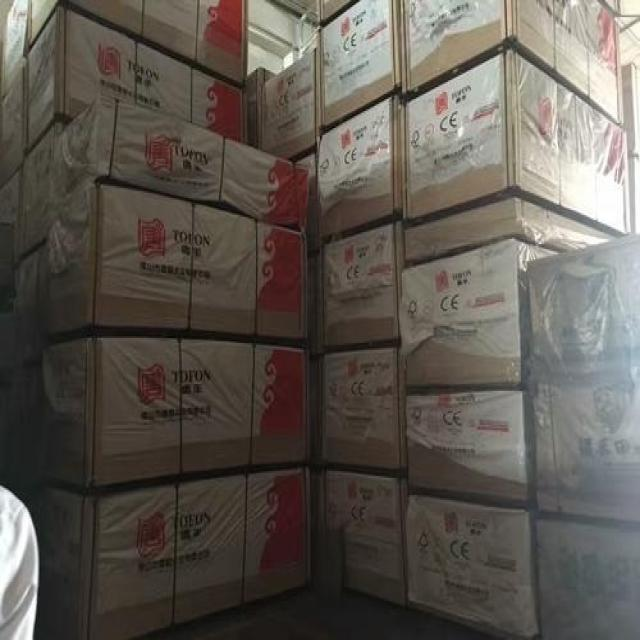box: (35, 464, 308, 640), (47, 183, 307, 346), (404, 49, 630, 236), (44, 338, 308, 490), (54, 94, 307, 230), (24, 2, 248, 154), (526, 232, 640, 524), (398, 0, 625, 126), (398, 239, 561, 389), (404, 493, 536, 640), (61, 0, 247, 85), (404, 389, 534, 507), (406, 196, 617, 261), (536, 515, 640, 640), (317, 96, 403, 241), (316, 469, 403, 606), (317, 222, 403, 352), (317, 346, 406, 471), (316, 0, 399, 131), (18, 121, 65, 258), (261, 48, 317, 160), (13, 236, 50, 357), (1, 2, 32, 94), (243, 67, 276, 150), (0, 70, 23, 188)
